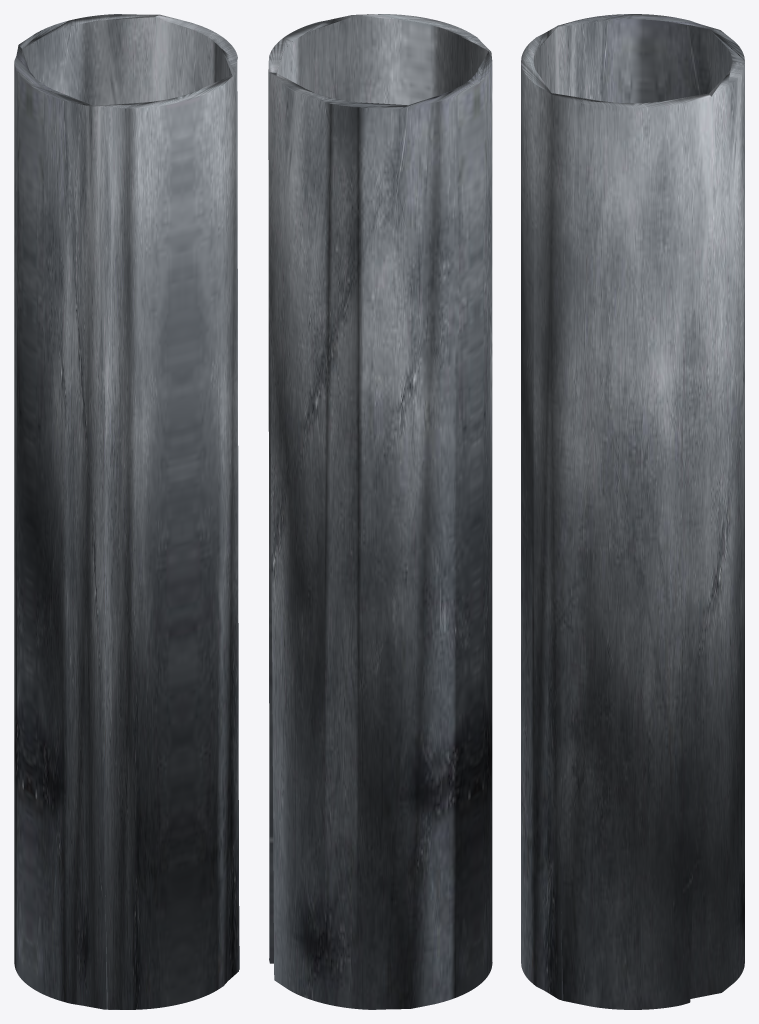
File: Pipe02-model.fbx
3 views of the same model, side by side, from view 1: azimuth 30°, elevation 25°; view 2: azimuth 150°, elevation 25°; view 3: azimuth 270°, elevation 25° (orthographic).
Parts seen in each view (by area): view 1: PipeA_Straig0; view 2: PipeA_Straig0; view 3: PipeA_Straig0.
Boxes of the visible parts, x1=… form: PipeA_Straig0: x1=14, y1=14, x2=239, y2=1009; PipeA_Straig0: x1=268, y1=14, x2=492, y2=1009; PipeA_Straig0: x1=521, y1=14, x2=744, y2=1009.
Size of the model in its own units: 2.25 by 10 by 2.25.
1 material, 1 textured.
